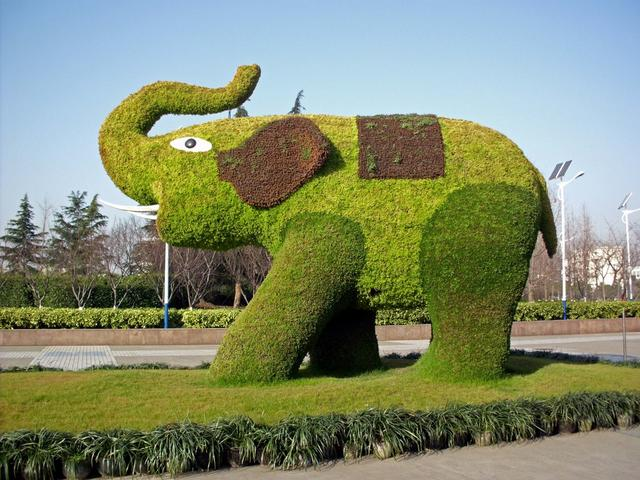elephant: (65, 59, 583, 399)
